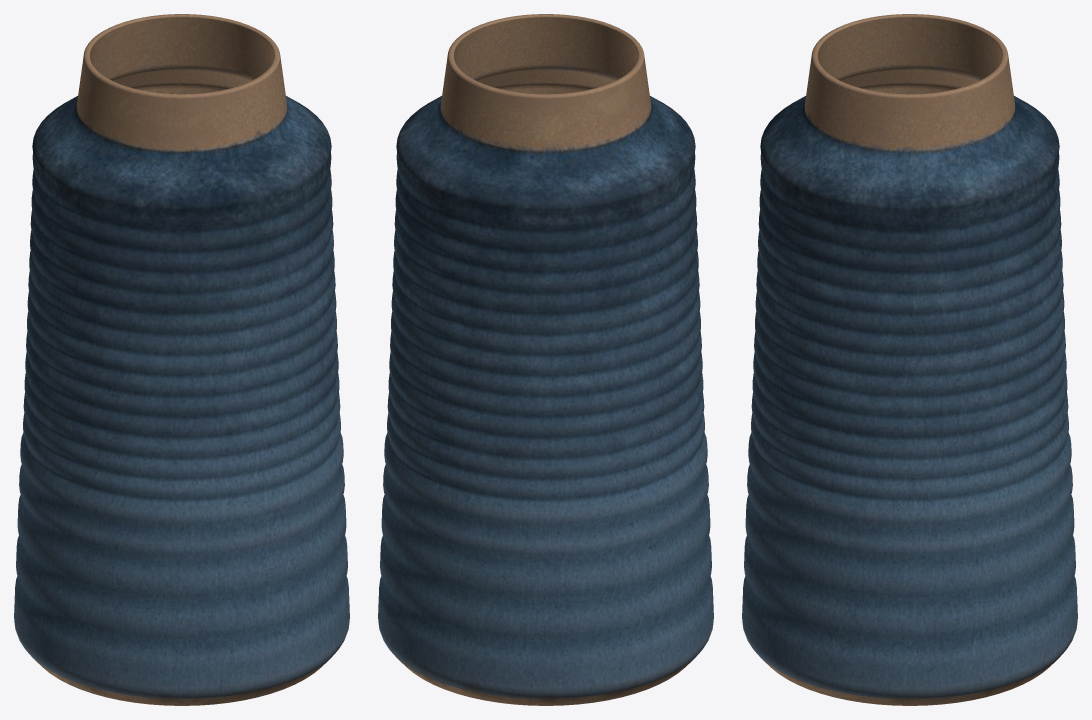
File: B07QHL6PLF.glb
3 renders of one model, left to right at view 1: azimuth 30°, elevation 25°; view 2: azimuth 150°, elevation 25°; view 3: azimuth 270°, elevation 25°, orthographic.
Visible parts, largest first — view 1: RootNode; view 2: RootNode; view 3: RootNode.
Part boxes in pixels (x1,y1,x2,y2): RootNode: [14, 14, 349, 705]; RootNode: [378, 14, 713, 705]; RootNode: [742, 14, 1077, 705].
Size of the model in its own units: 0.1634 by 0.3157 by 0.1634.
Materials: 1 (1 with a texture image).
